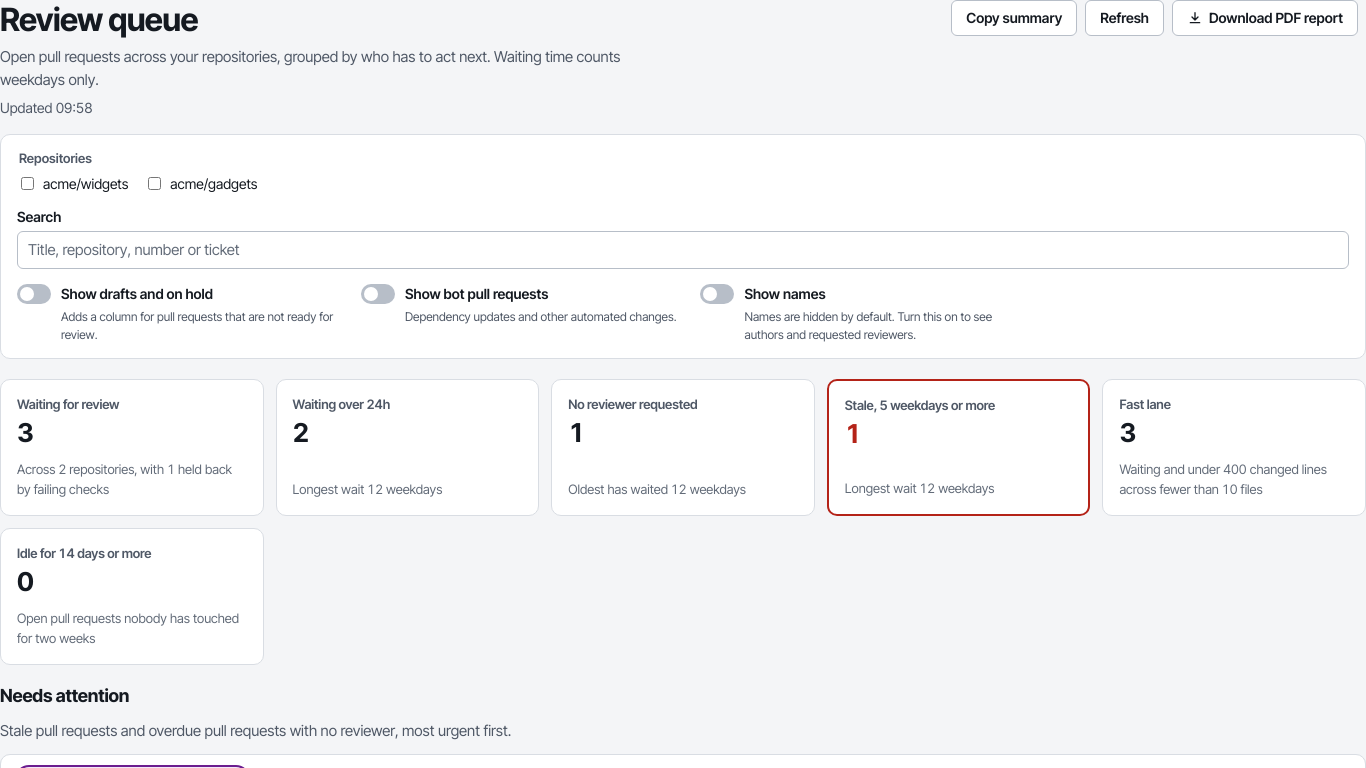
it: ReviewQueuePage › narrows the queue to the repositories ticked and widens it again when unticked
Expected: the checkbox labelled "acme/widgets" is not checked, x1=21 y1=176 x2=34 y2=190
Click the checkbox labelled "acme/gadgets" at (155, 183), box x1=148 y1=176 x2=161 y2=190
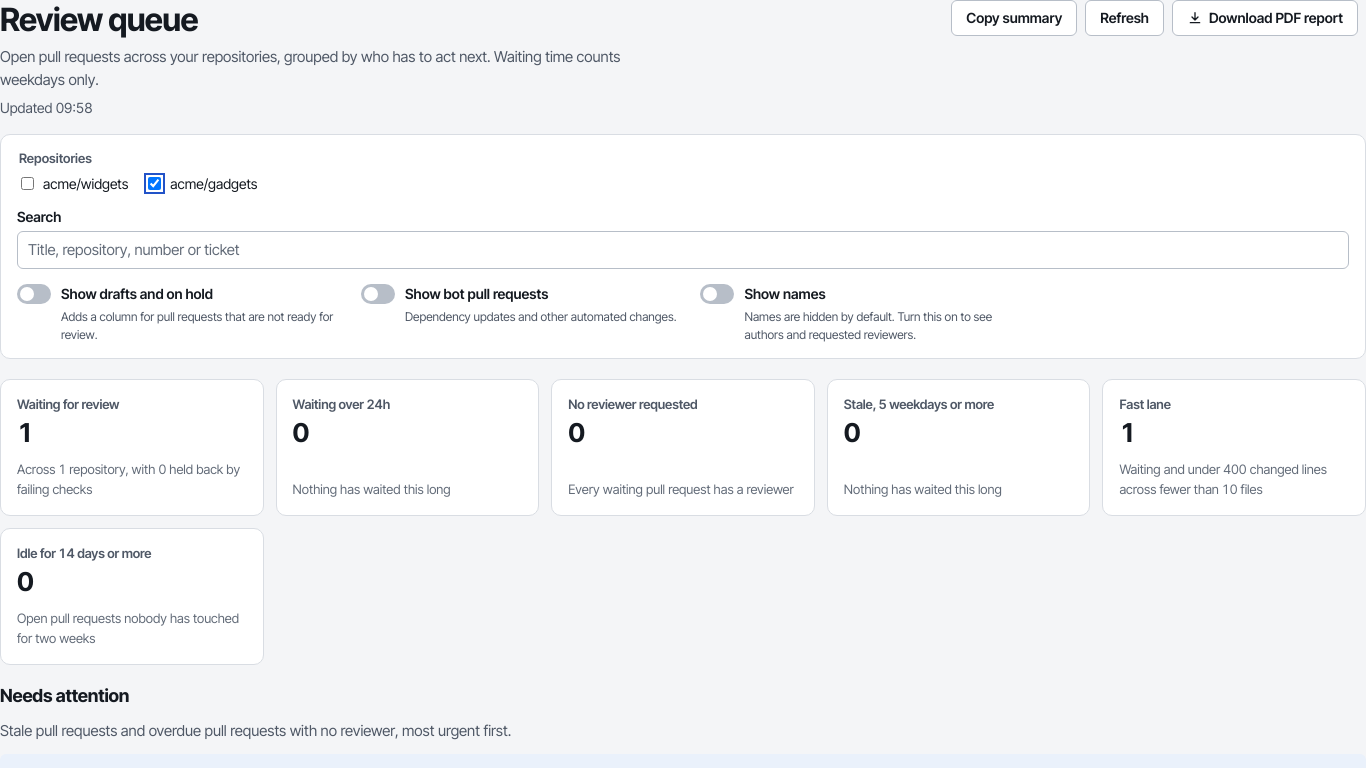
Result: the checkbox labelled "acme/gadgets" is checked
Click the checkbox labelled "acme/gadgets" at (155, 183), box x1=148 y1=176 x2=161 y2=190
(page scrolled)
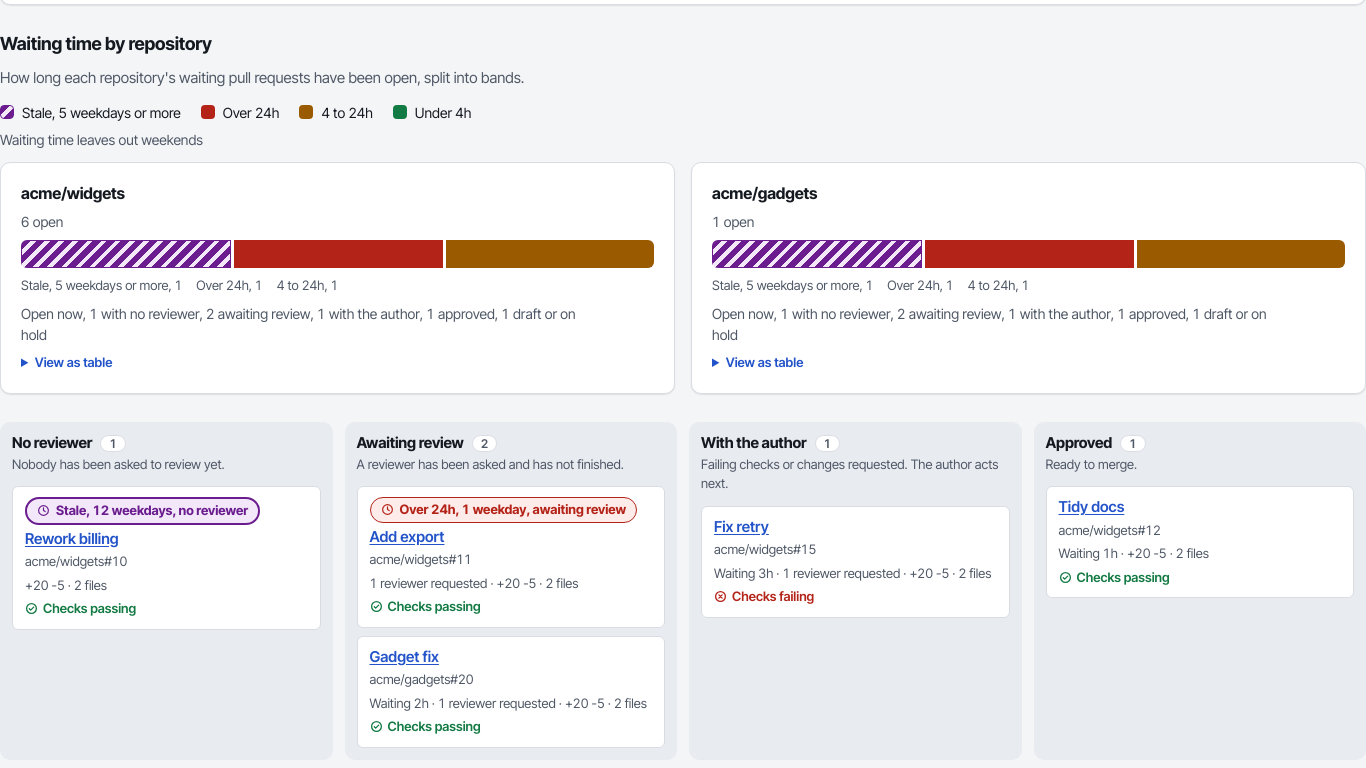
Result: the link "Add export" is shown at x1=370 y1=526 x2=444 y2=546
